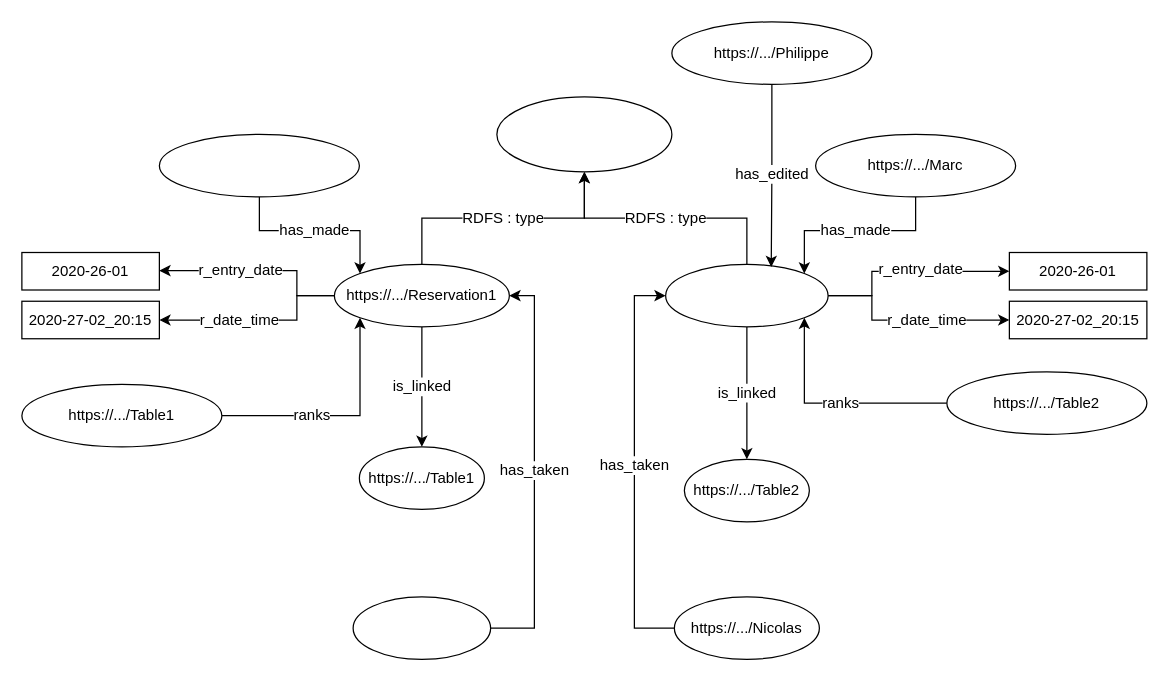
Image size: 1169x681. Some labels were removed from this diagram. The centre of each missing label's shape, as x and y in pixels:
"https://.../Jean" goes at point (258, 165).
"https://.../Jules" goes at point (421, 627).
"https://.../Reservation2" goes at point (746, 295).
"Reservation" goes at point (584, 134).
